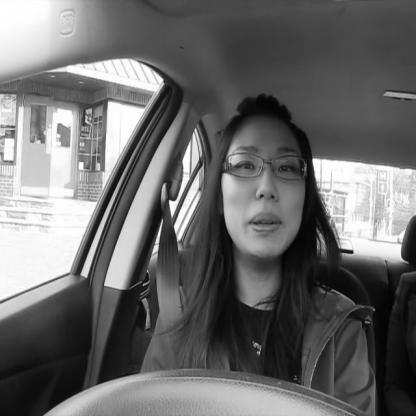seatbelt: (153, 73, 330, 416)
